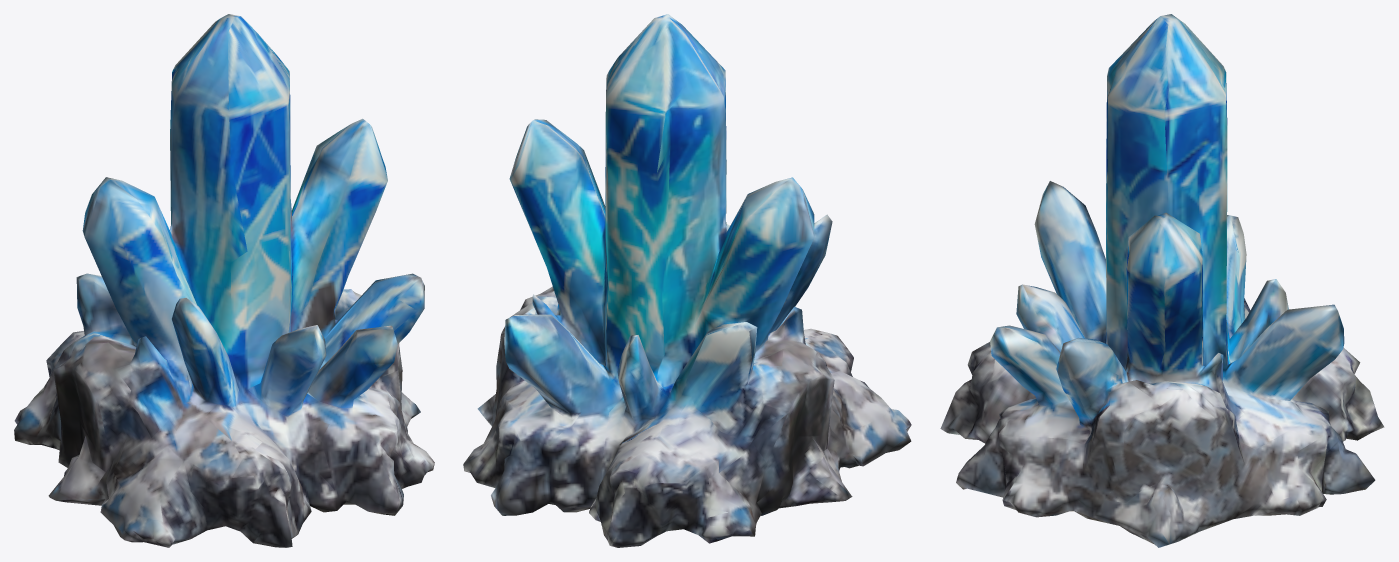
The model's file is SecondRoom_BlueCrystal.fbx.
The picture shows the model from 3 angles, left to right: view 1: azimuth 30°, elevation 25°; view 2: azimuth 150°, elevation 25°; view 3: azimuth 270°, elevation 25°; orthographic projection.
Parts seen in each view (by area): view 1: SecondRoom_BlueCrystal_Mesh; view 2: SecondRoom_BlueCrystal_Mesh; view 3: SecondRoom_BlueCrystal_Mesh.
Part boxes in pixels (x1,y1,x2,y2): SecondRoom_BlueCrystal_Mesh: [14, 14, 434, 547]; SecondRoom_BlueCrystal_Mesh: [463, 14, 911, 547]; SecondRoom_BlueCrystal_Mesh: [940, 14, 1384, 547].
Bounding box in the file's own units: 5.15 × 6 × 5.33.
1 material, 1 textured.
